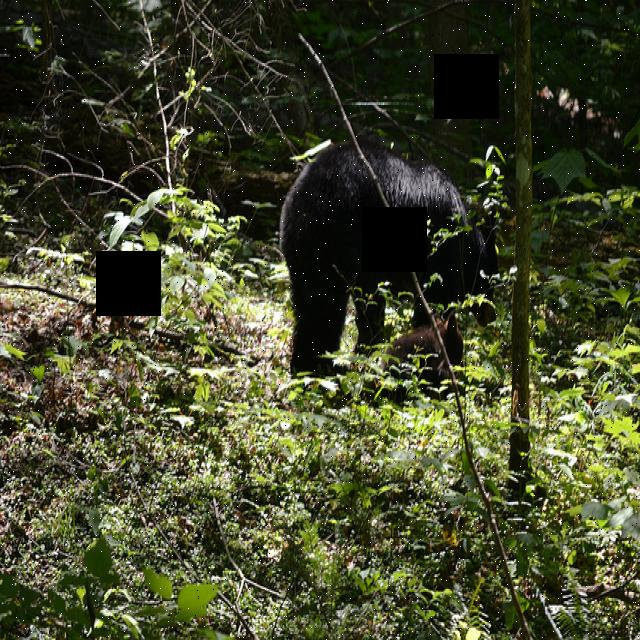Bear: (275, 140, 493, 373)
